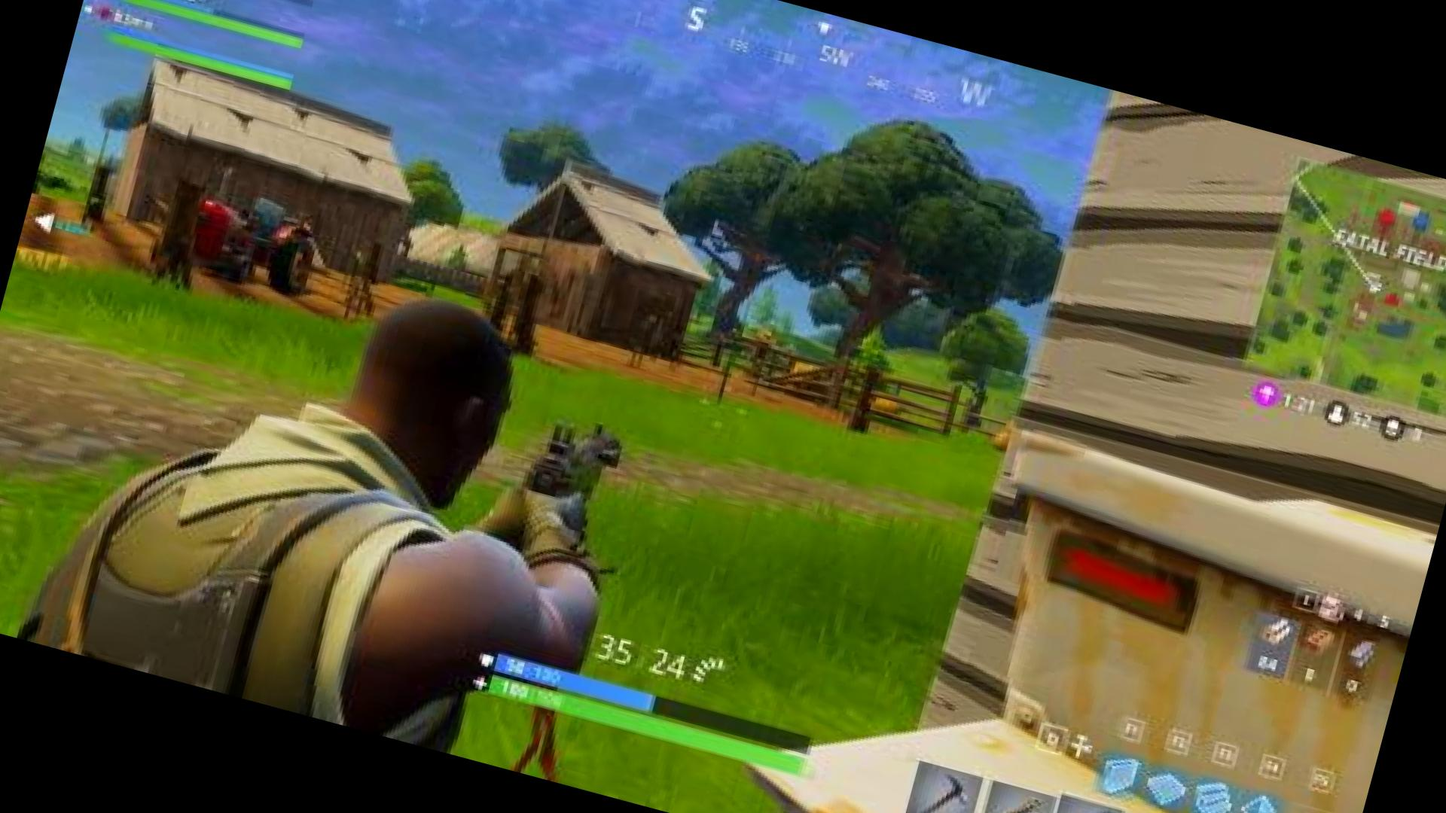player: (17, 209, 672, 783)
